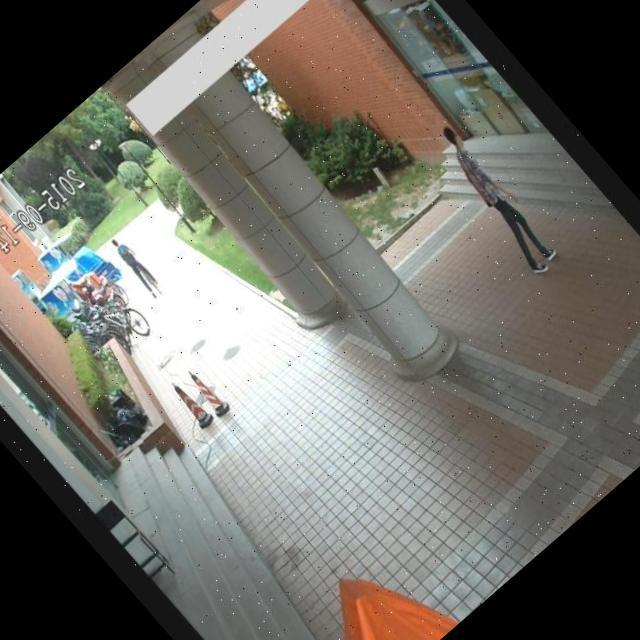person: (419, 113, 576, 284), (104, 230, 170, 302)
